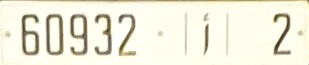0: (44, 12, 64, 57)
2: (117, 13, 138, 57), (271, 12, 292, 56)
3: (93, 14, 113, 56)
6: (20, 13, 41, 57)
9: (69, 13, 89, 56)
a: (201, 11, 214, 59)
